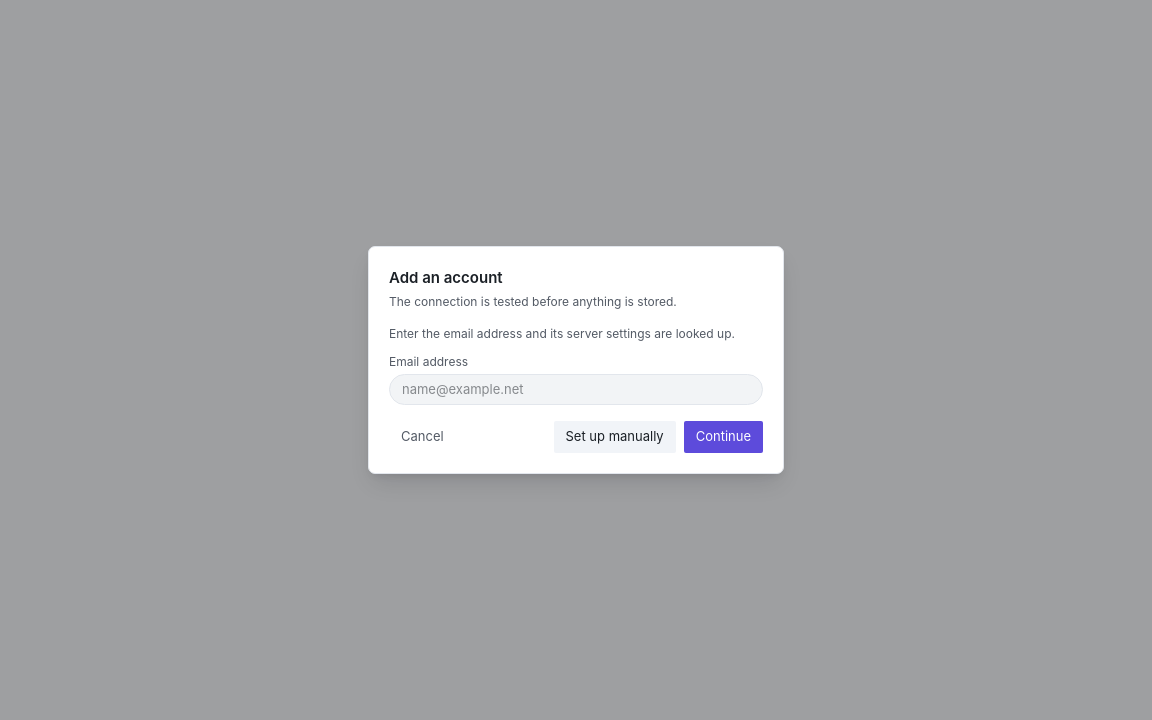
it: the account discovery step › notes a manual recommendation and opens the form
This screenshot has width=1152, height=720.
Step 1. Type "user@example.test" into the field labelled "Email address" → (576, 389), box [389,374,763,405]
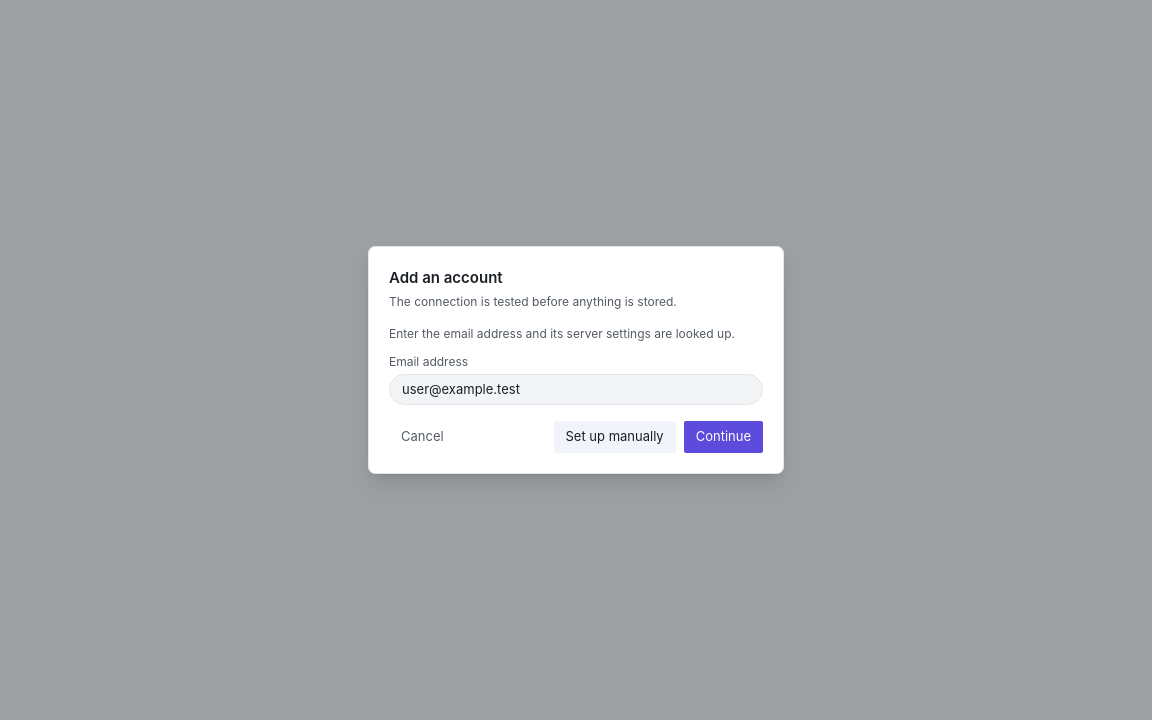
Step 2. Click the button "Continue" → (723, 437), box [684,421,763,453]
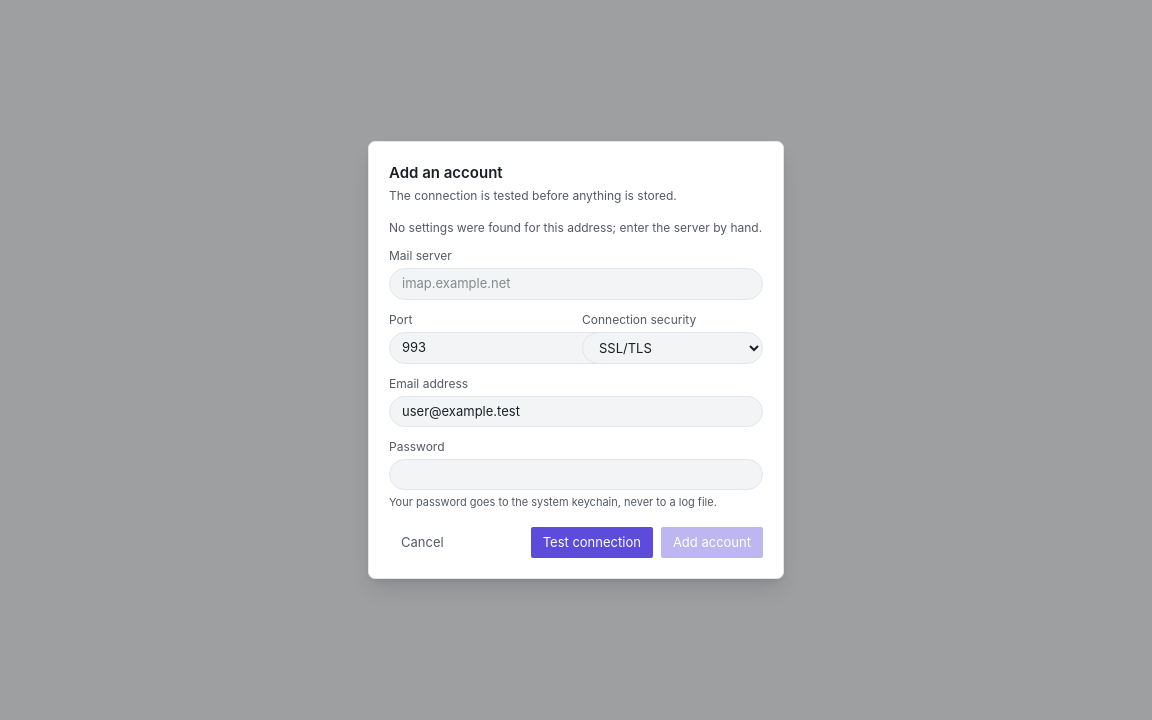
Result: the field labelled "Email address" holds "user@example.test" at [389,396,763,427]
Result: the text "No settings were found for this address; enter the server by hand." is shown at [389,220,763,236]
Result: the field labelled "Mail server" is empty at [389,268,763,300]
